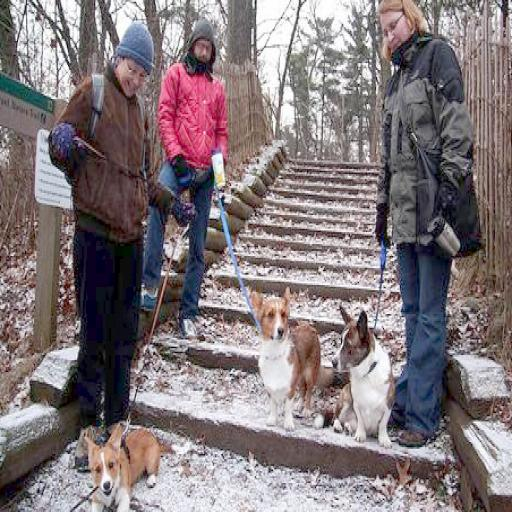dog_face: (82, 421, 129, 492), (250, 284, 296, 344), (332, 307, 368, 377)
